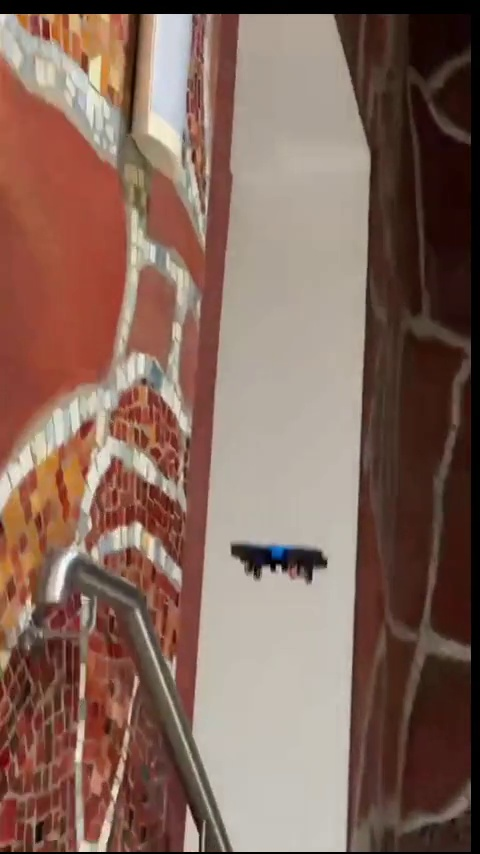drone: (229, 539, 326, 577)
